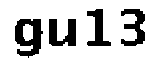1: (82, 7, 114, 51)
3: (120, 7, 148, 48)
g: (10, 14, 43, 60)
u: (44, 16, 77, 51)
